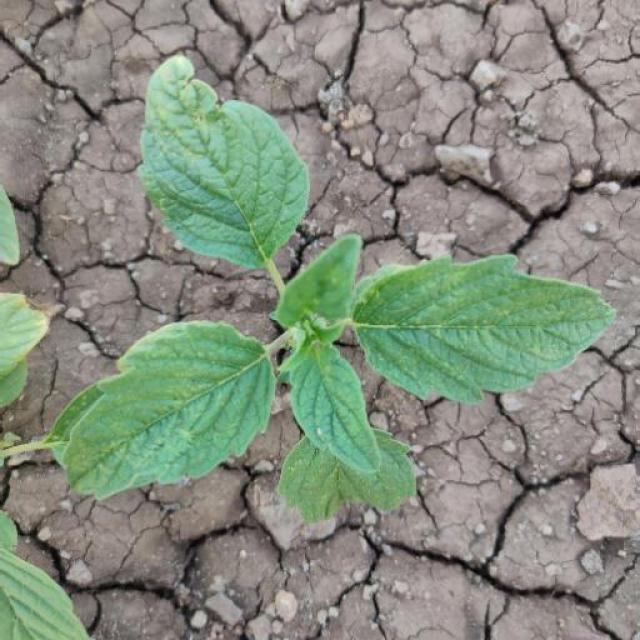crop: (54, 48, 620, 558)
